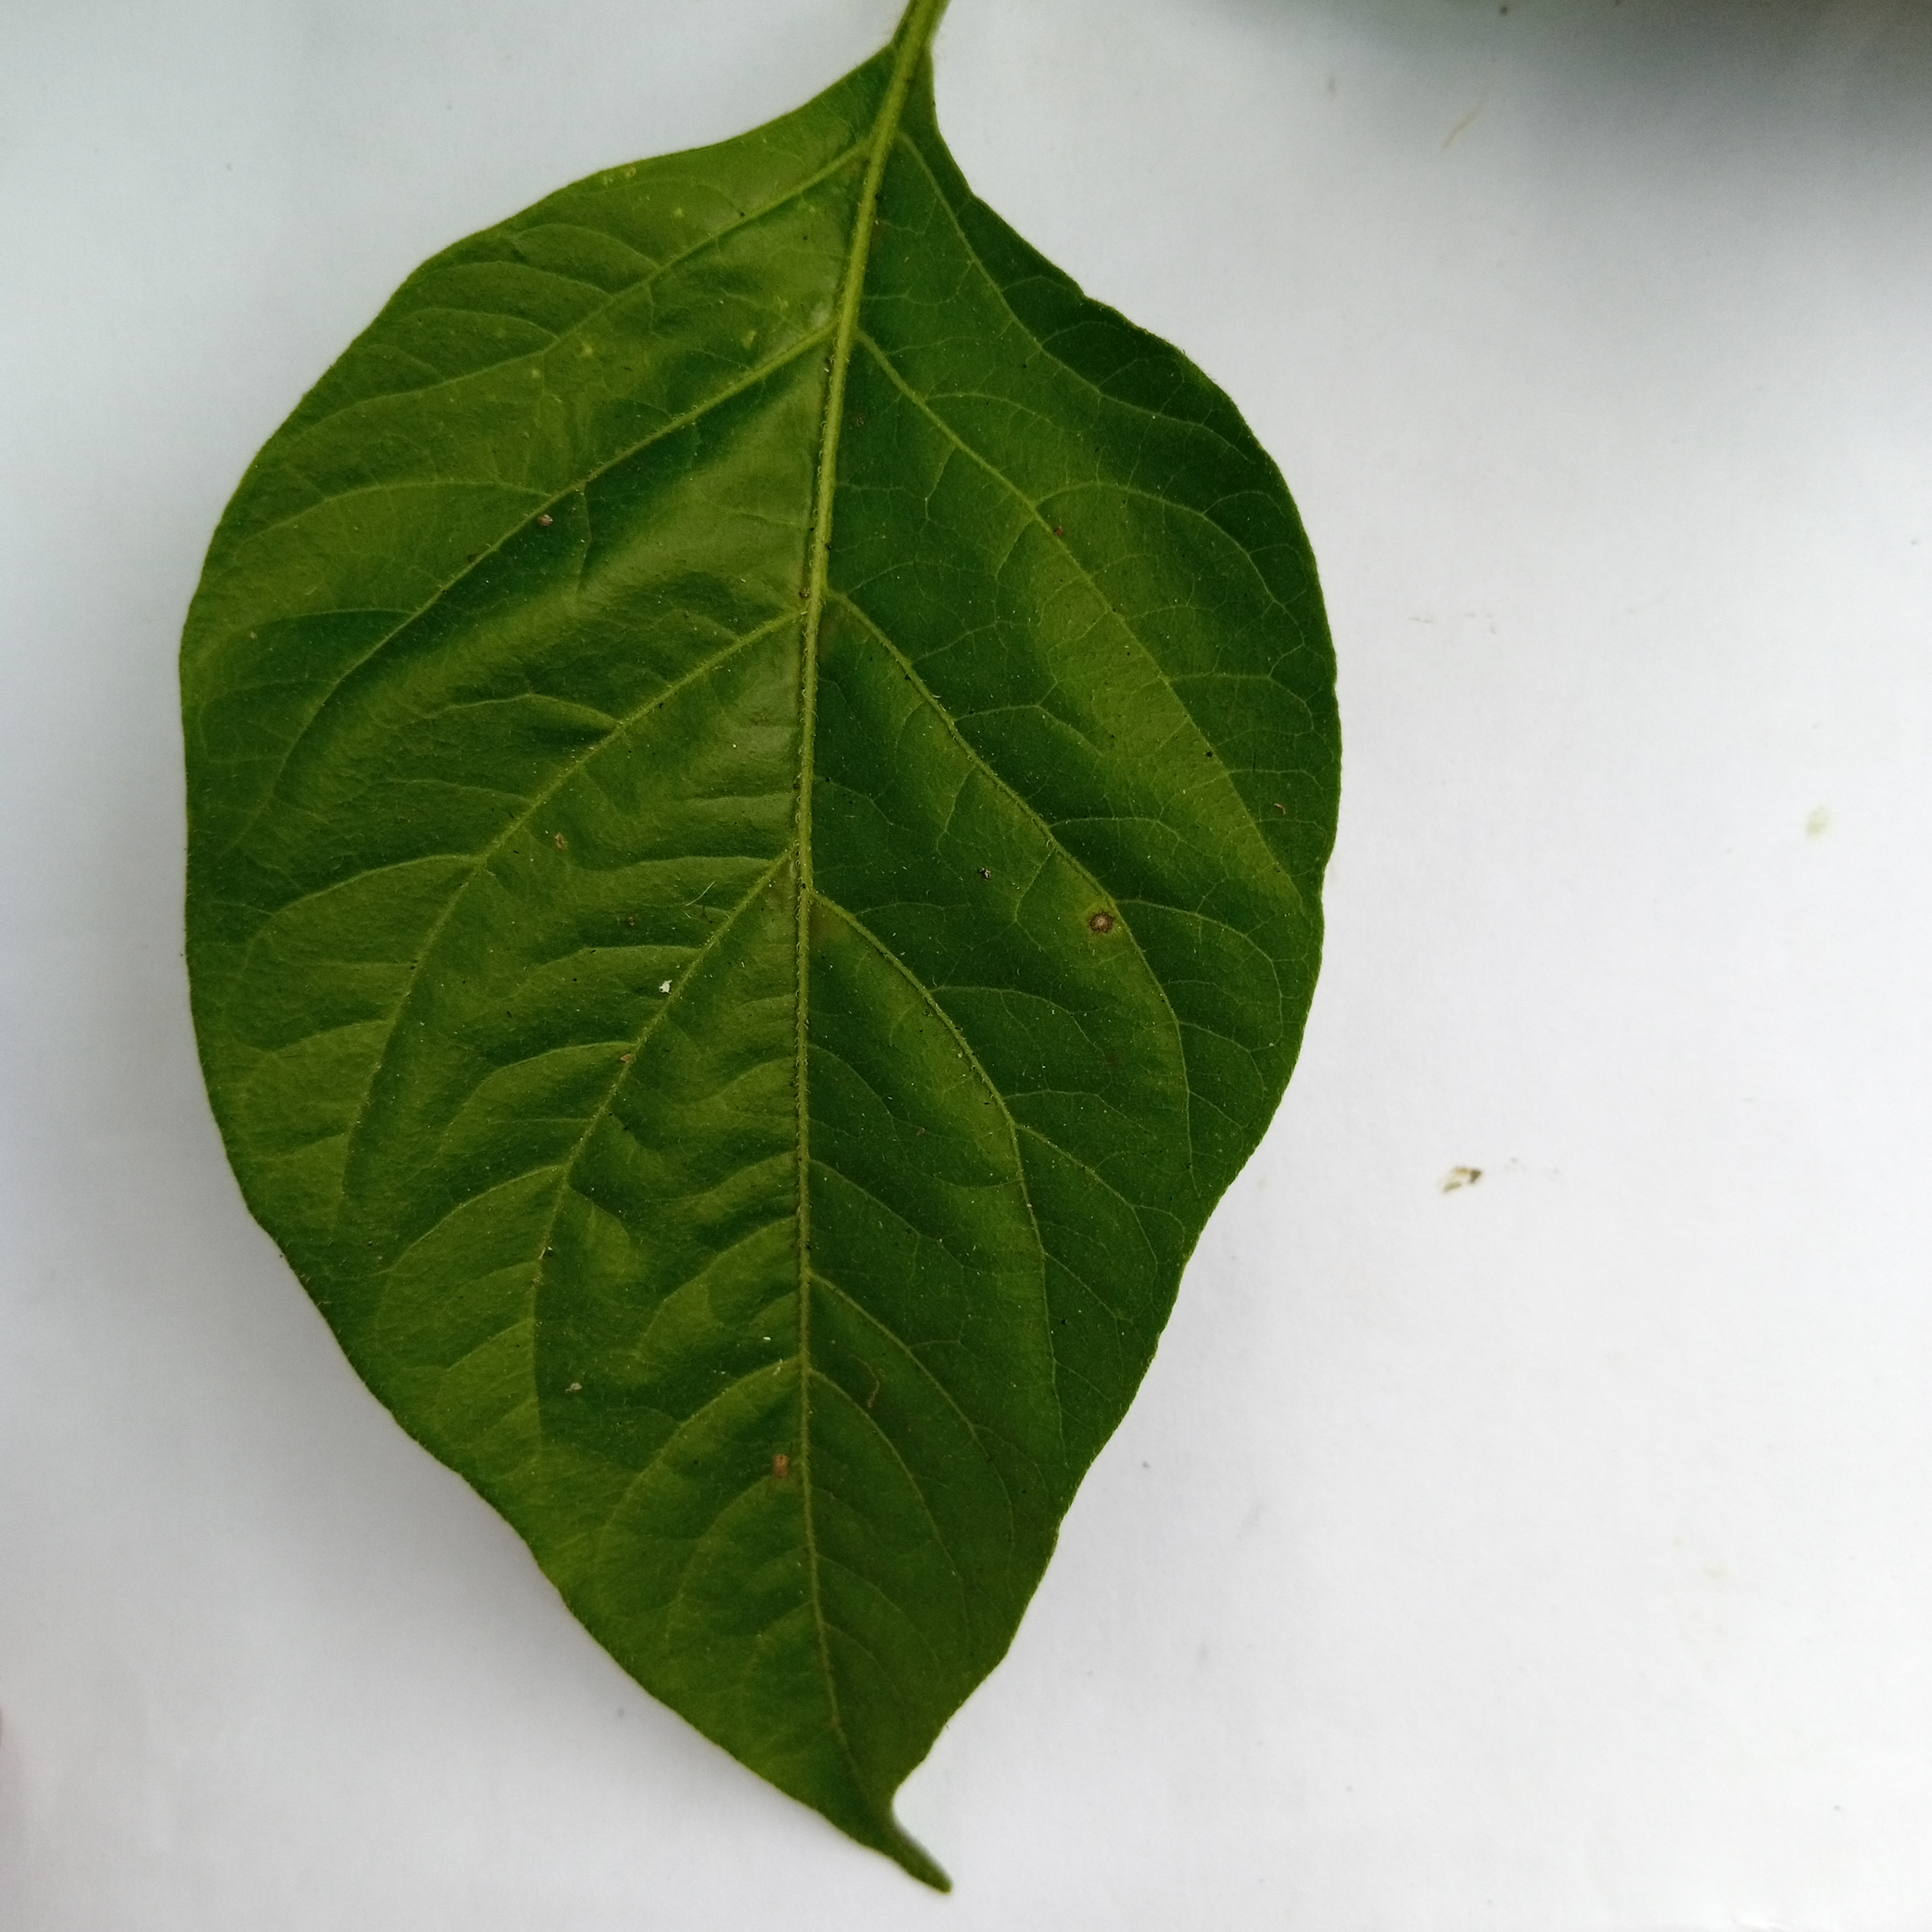Leaf: (60, 18, 1463, 1932)
